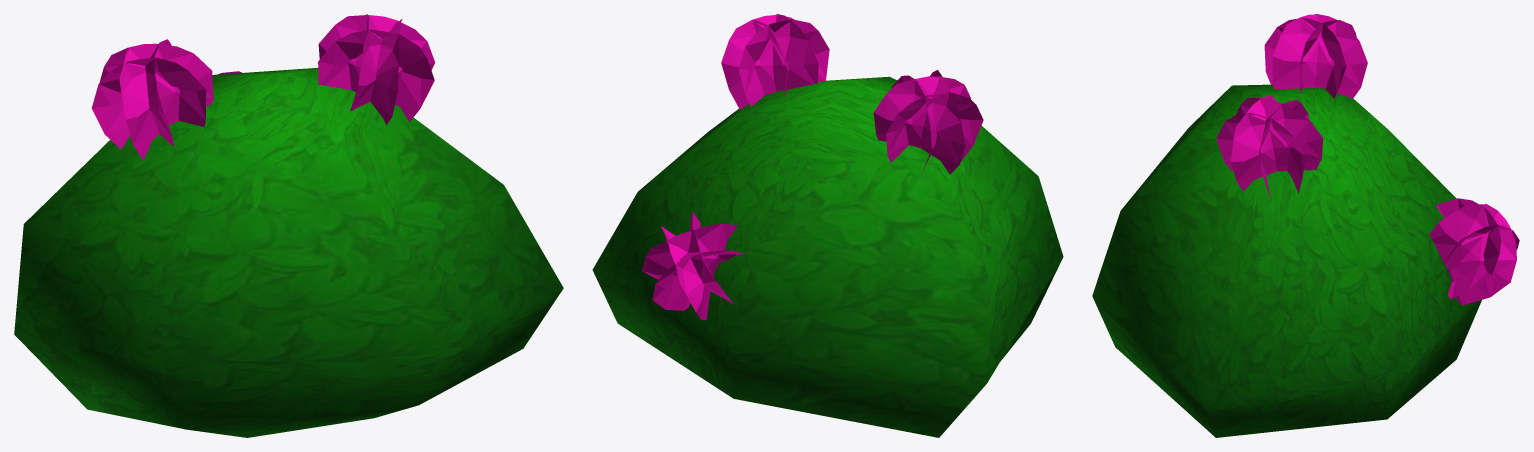
File: plant 4.fbx
3 renders of one model, left to right at view 1: azimuth 30°, elevation 25°; view 2: azimuth 150°, elevation 25°; view 3: azimuth 270°, elevation 25°, orthographic. The views are drawn at different scales.
Visible parts, largest first — view 1: plant_4; view 2: plant_4; view 3: plant_4.
Boxes of the visible parts, x1,y1,x2,y2 form: plant_4: (14, 14, 563, 437); plant_4: (592, 14, 1063, 437); plant_4: (1092, 14, 1519, 437).
Size of the model in its own units: 14.17 by 11.8 by 13.53.
